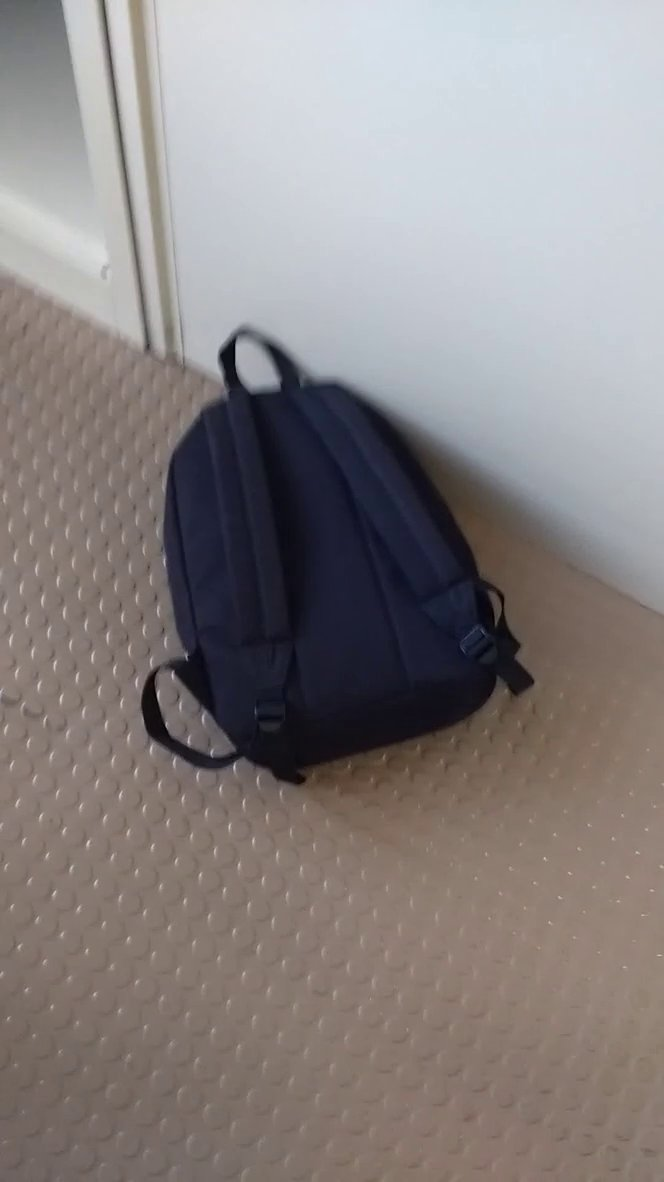bag: (118, 312, 562, 803)
